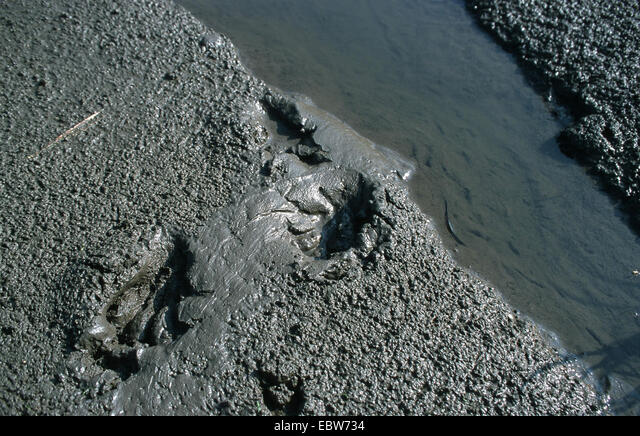beaver: (94, 236, 215, 349)
